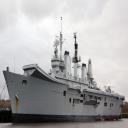Portanaves: (3, 15, 127, 123)
